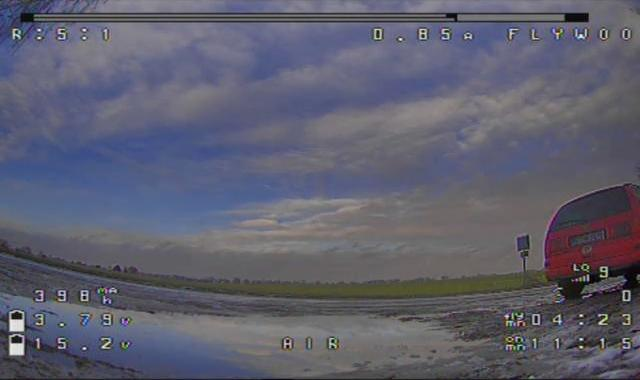car: (543, 181, 640, 300)
